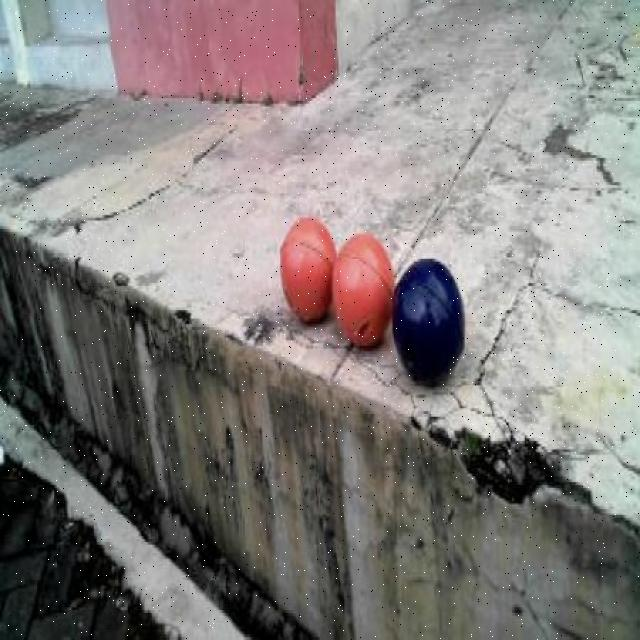buoy: (389, 247, 473, 399), (327, 223, 395, 357), (276, 204, 340, 332)
